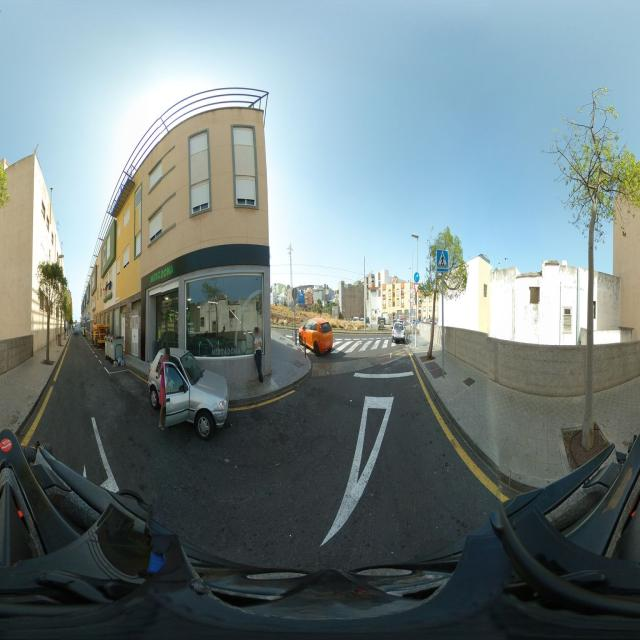forb_stopping: (410, 308, 413, 314)
